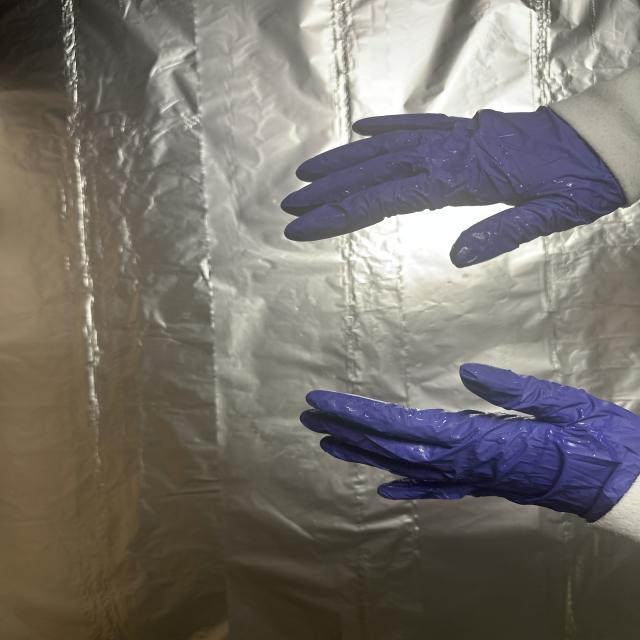gloves_contaminated: (282, 107, 626, 267), (300, 364, 640, 520)
